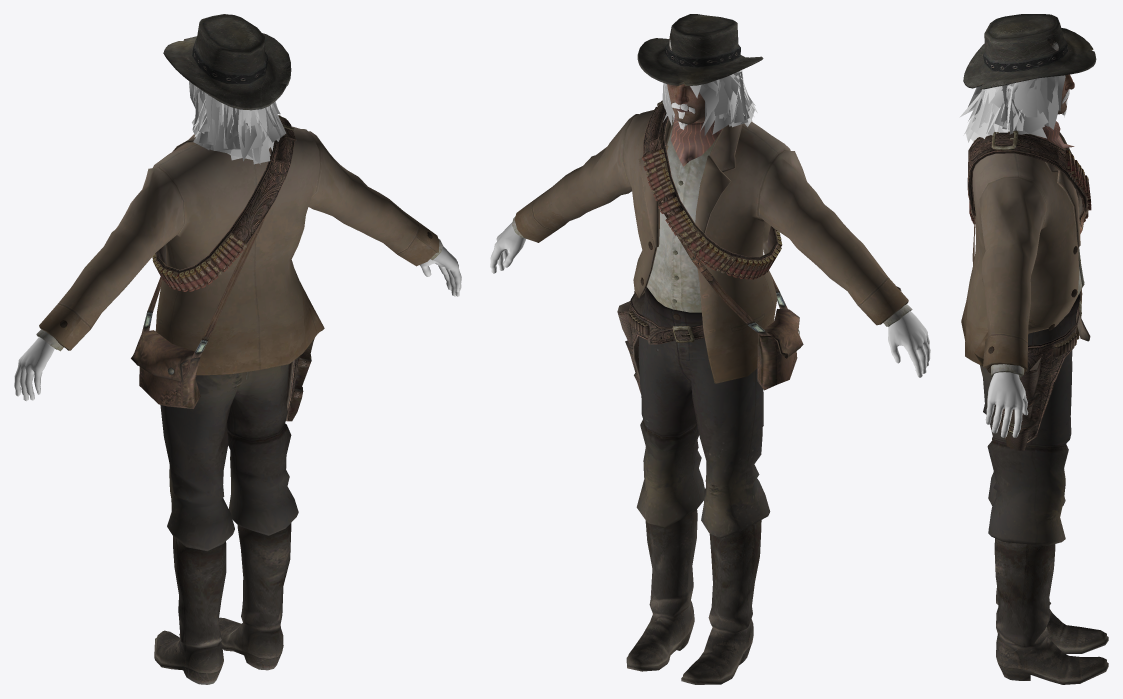
Rendered from Jack Cowboy.fbx.
The picture shows the model from 3 angles, left to right: view 1: azimuth 30°, elevation 25°; view 2: azimuth 150°, elevation 25°; view 3: azimuth 270°, elevation 25°; orthographic projection.
Parts seen in each view (by area): view 1: object8, object5, object1.001, object7, object4, object6, object10, object2.001; view 2: object8, object5, object9, object1.001, object7, object4, object6, object10, object1, object2.001; view 3: object8, object5, object1.001, object4, object10, object6, object2.001, object9, object1.
Boxes of the visible parts, box(x1,y1,x2,y2) form: object8: box(38, 126, 439, 551); object5: box(60, 115, 432, 684); object1.001: box(163, 14, 291, 110); object7: box(131, 217, 265, 408); object4: box(189, 81, 286, 164); object6: box(14, 246, 461, 401); object10: box(286, 338, 314, 421); object2.001: box(192, 38, 267, 84); object8: box(514, 110, 908, 538); object5: box(626, 100, 901, 684); object9: box(512, 115, 912, 326); object1.001: box(637, 14, 763, 85); object7: box(676, 235, 803, 390); object4: box(662, 70, 757, 135); object6: box(490, 222, 930, 377); object10: box(617, 293, 704, 393); object1: box(667, 84, 704, 124); object2.001: box(665, 43, 740, 67); object8: box(961, 132, 1082, 545); object5: box(967, 130, 1108, 684); object1.001: box(963, 14, 1096, 89); object4: box(959, 75, 1069, 142); object10: box(1000, 301, 1090, 450); object6: box(985, 372, 1028, 437); object2.001: box(983, 39, 1067, 72); object9: box(991, 121, 1084, 377); object1: box(1058, 74, 1074, 114).
Bounding box in the file's own units: 129 × 181 × 38.28.
